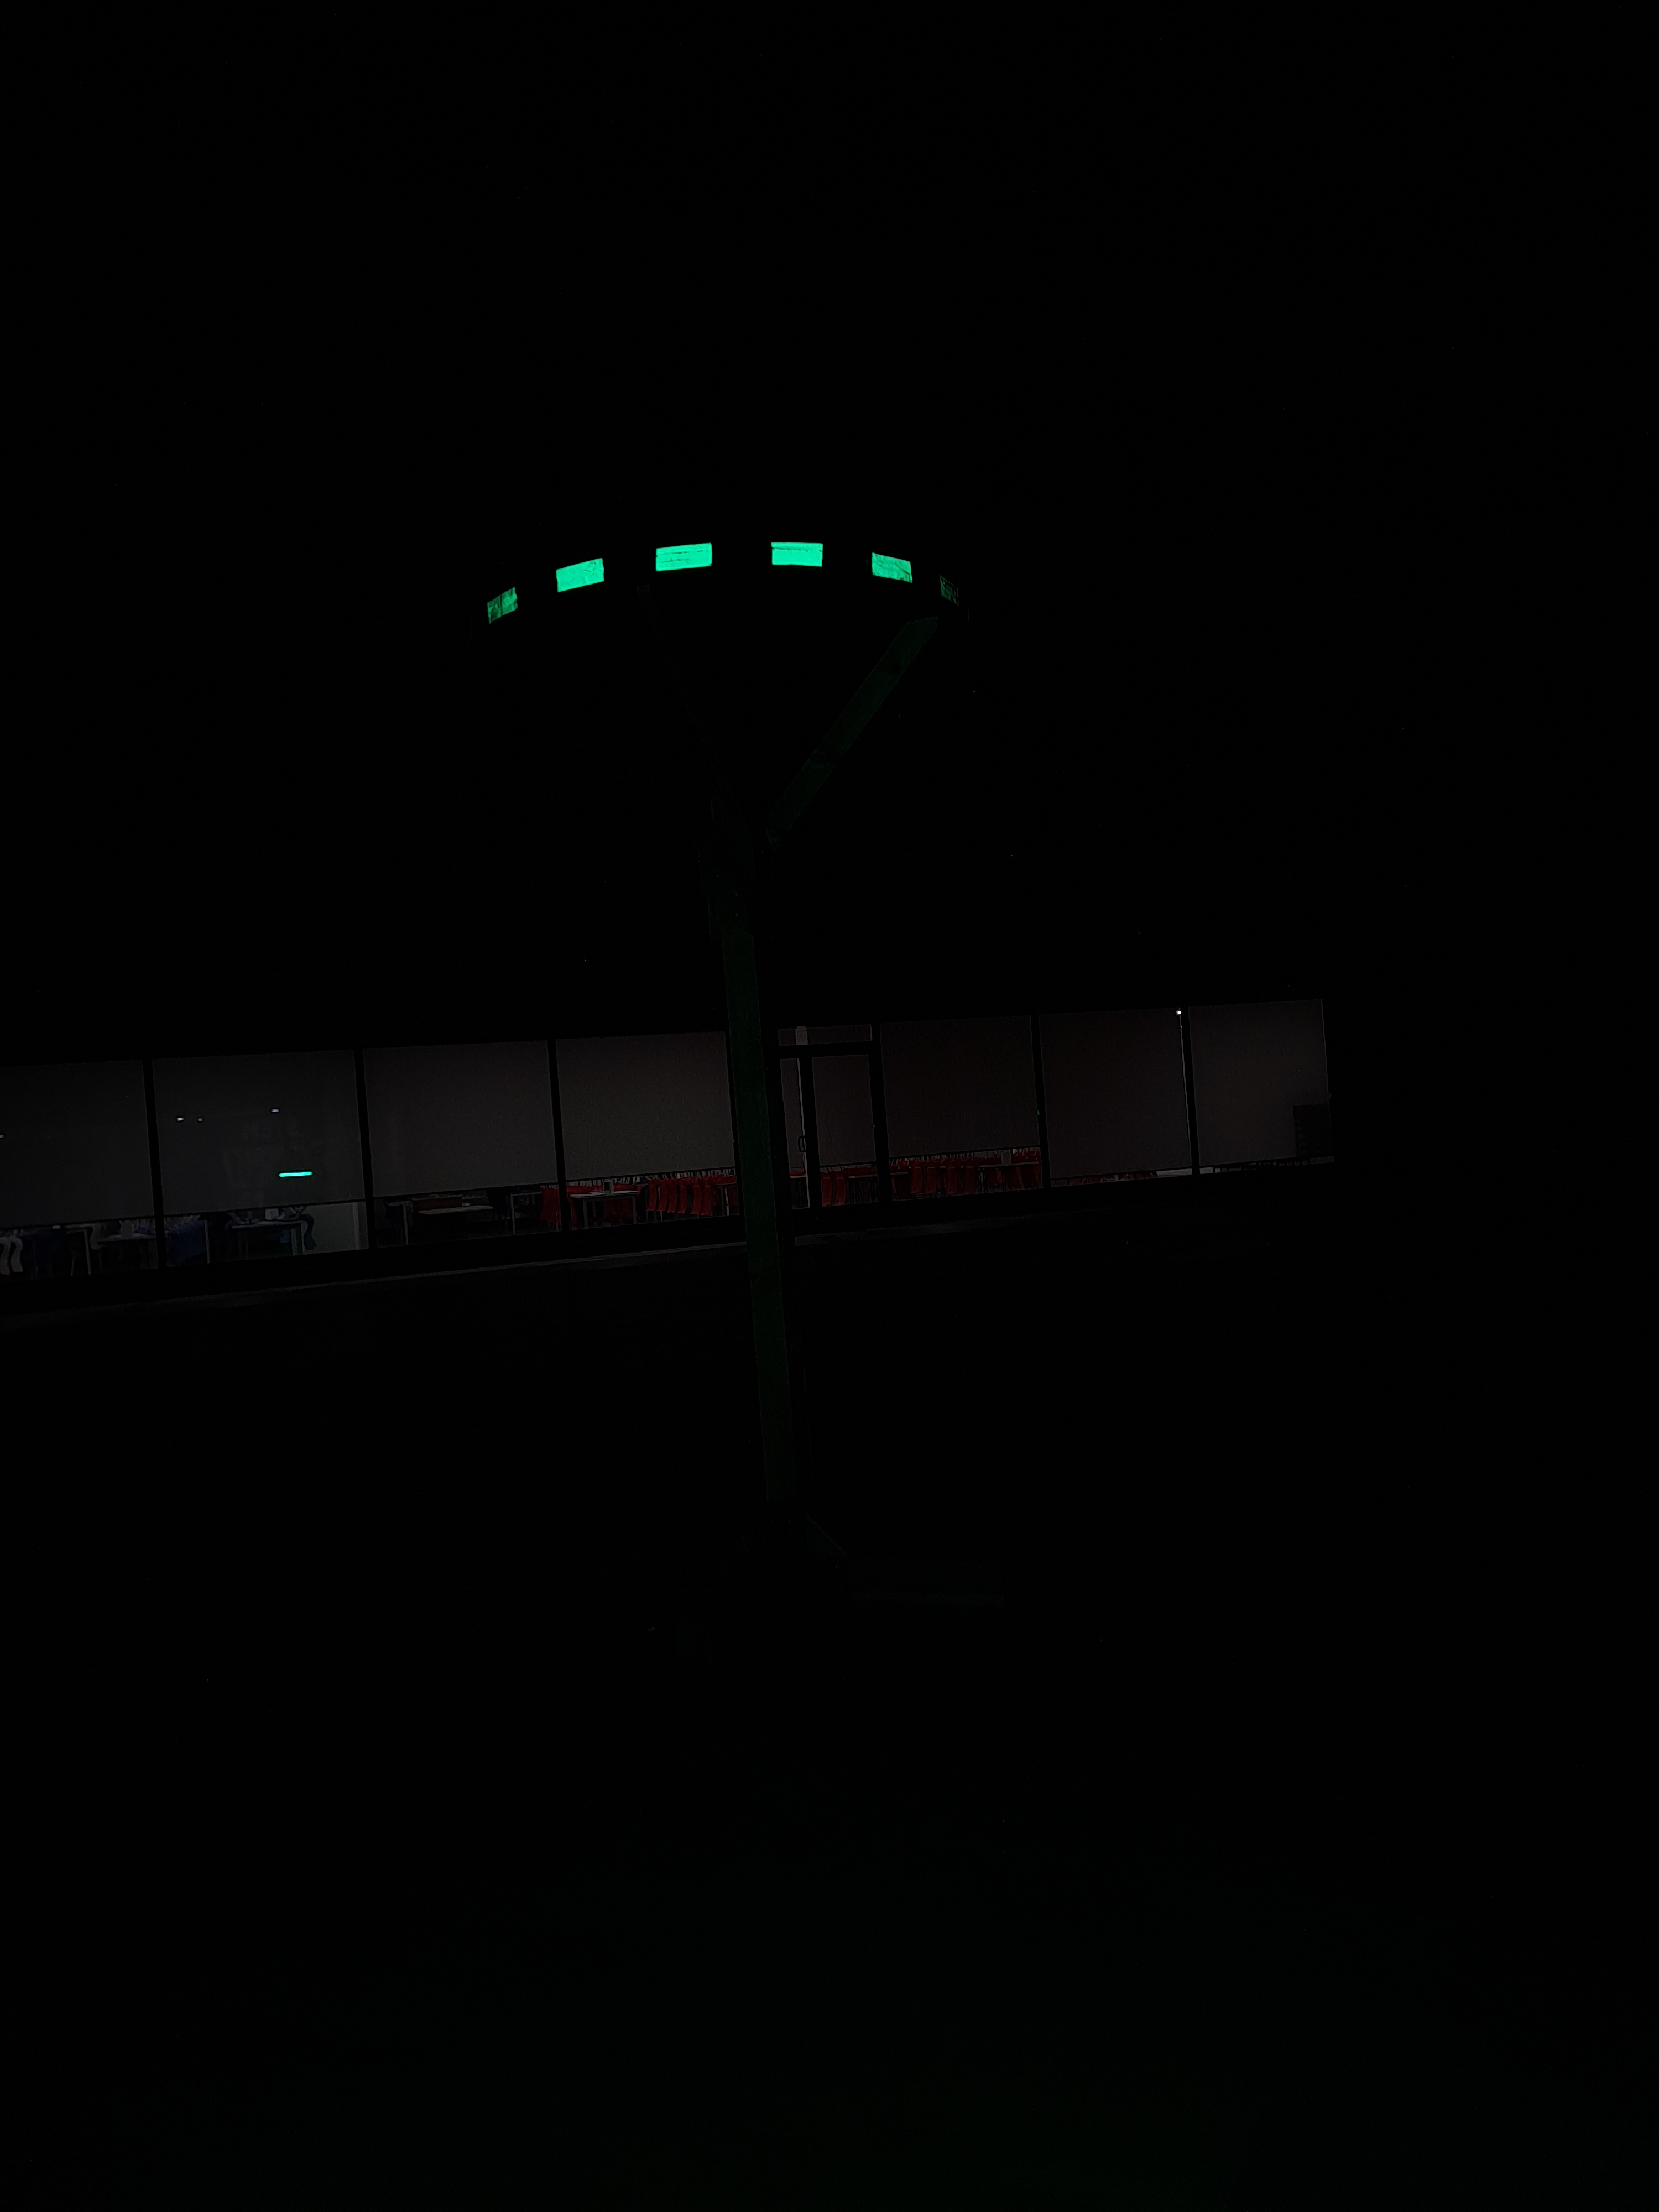hoop: (477, 542, 969, 617)
